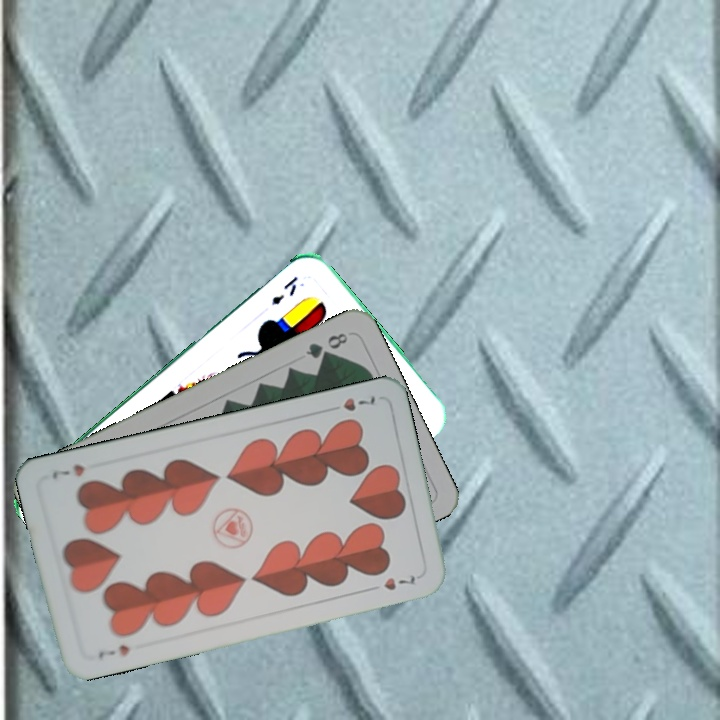EK: (267, 272, 301, 308)
G8: (301, 328, 351, 362)
H7: (323, 391, 380, 415), (94, 640, 132, 663)
